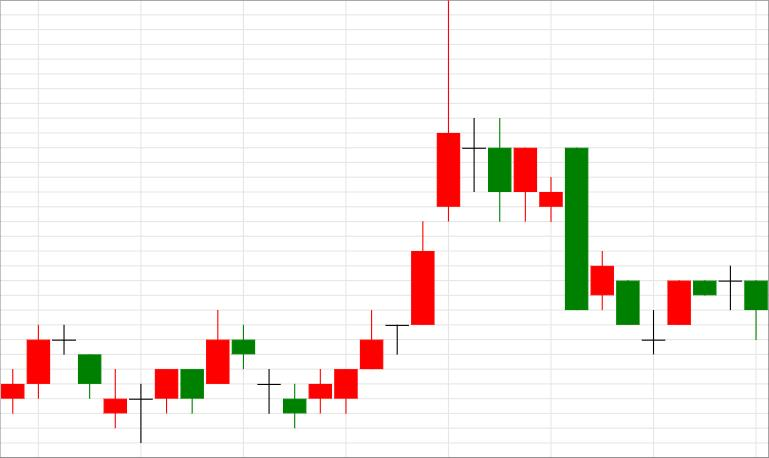morning_star_rise: (514, 148, 690, 354)
